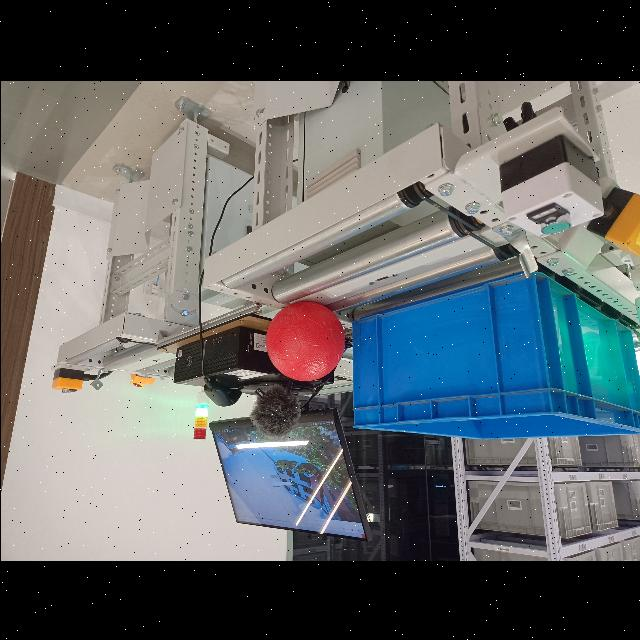R: (264, 301, 344, 383)
